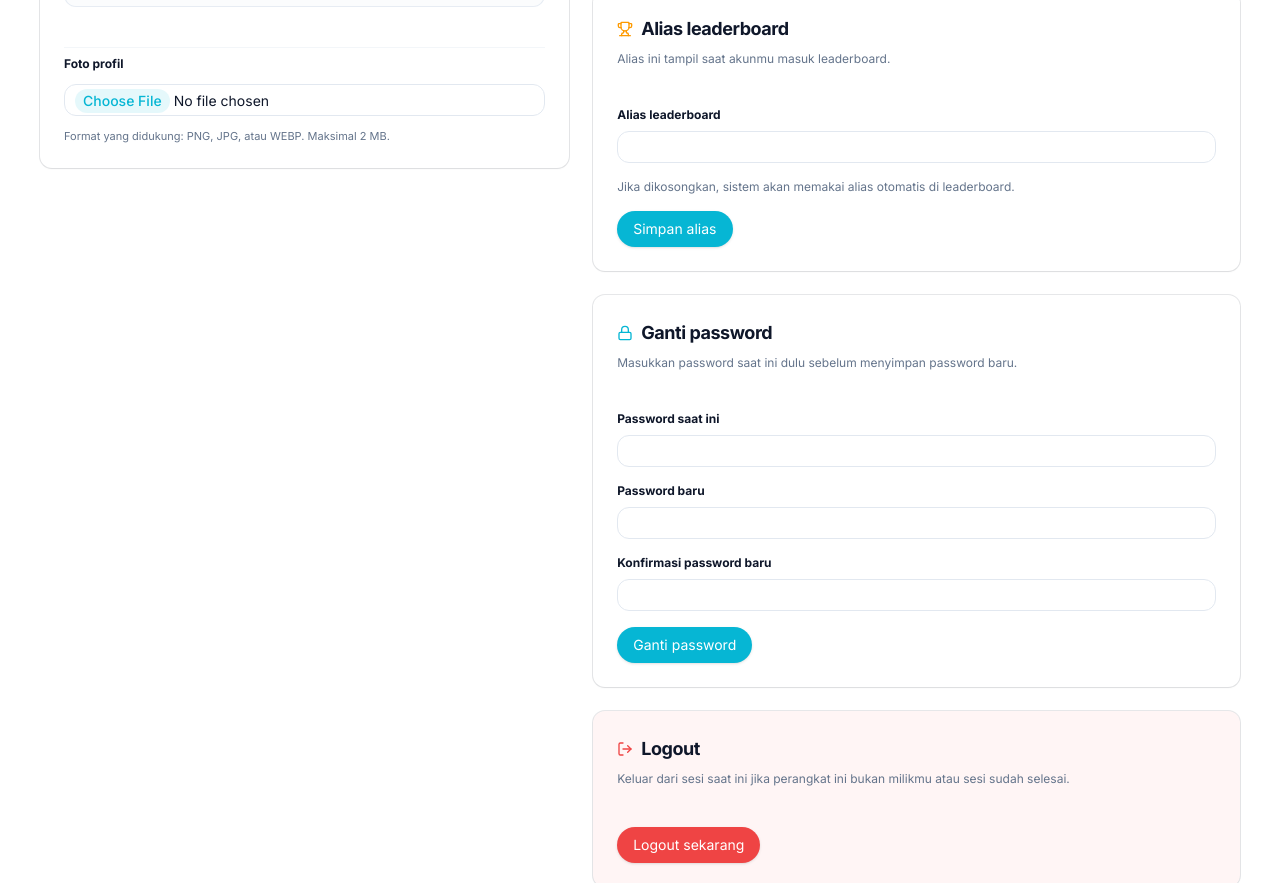
it: ProfilePage › blocks password submit when confirmation does not match
(page scrolled)
Type "password-lama" into the password field labelled "Password saat ini" at [917, 451], box [617,435,1216,467]
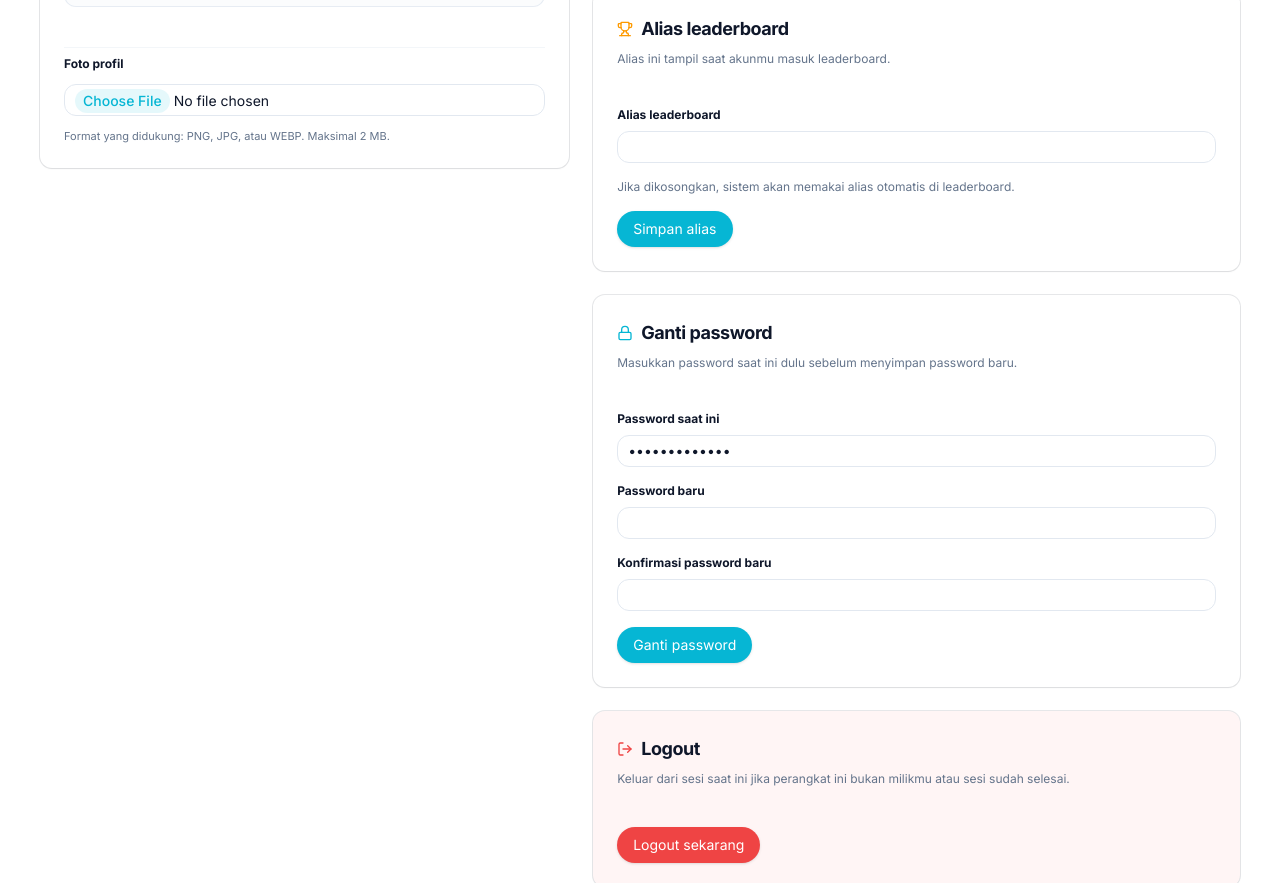
Type "password-baru" into the password field labelled "Password baru" at [917, 523], box [617,507,1216,539]
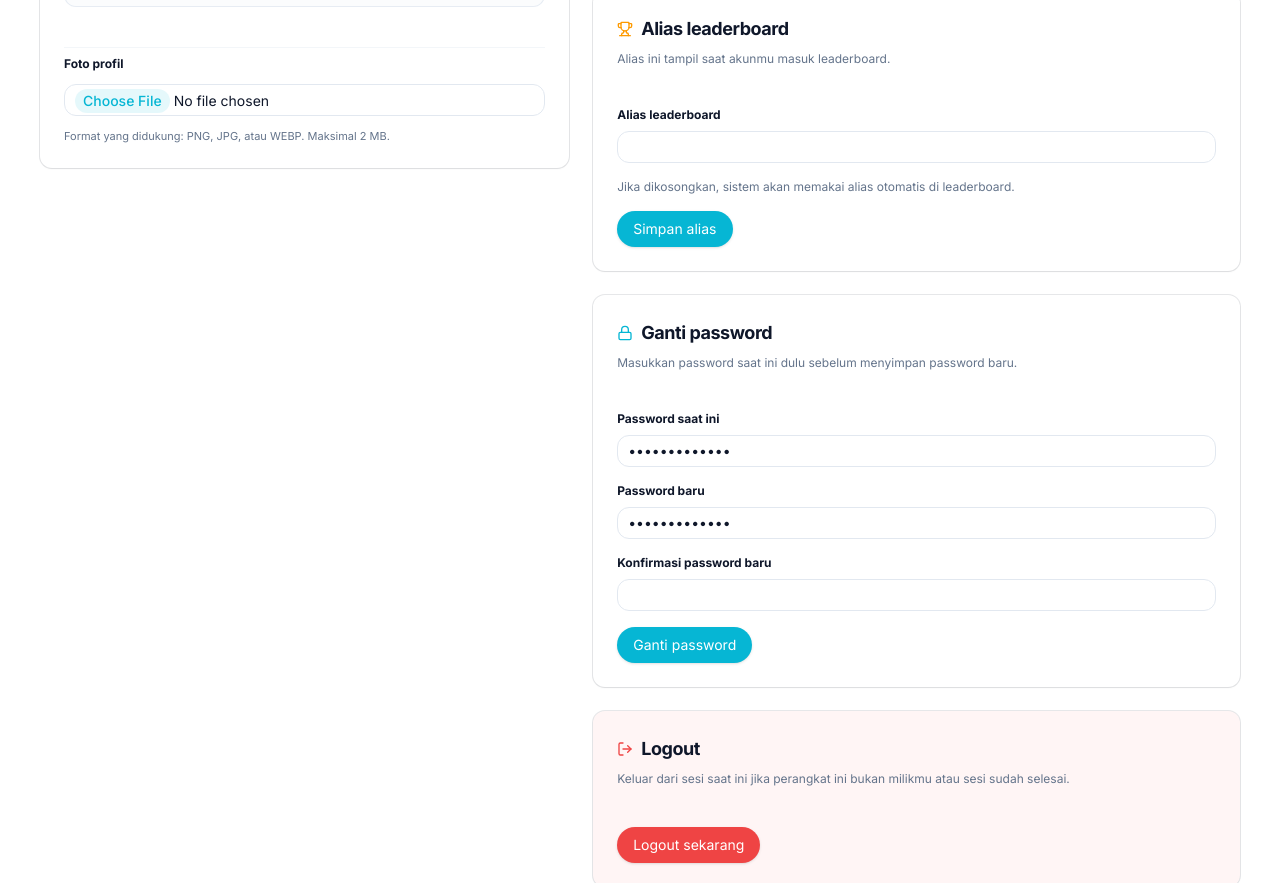
Type "beda-password" into the password field labelled "Konfirmasi password baru" at [917, 595], box [617,579,1216,611]
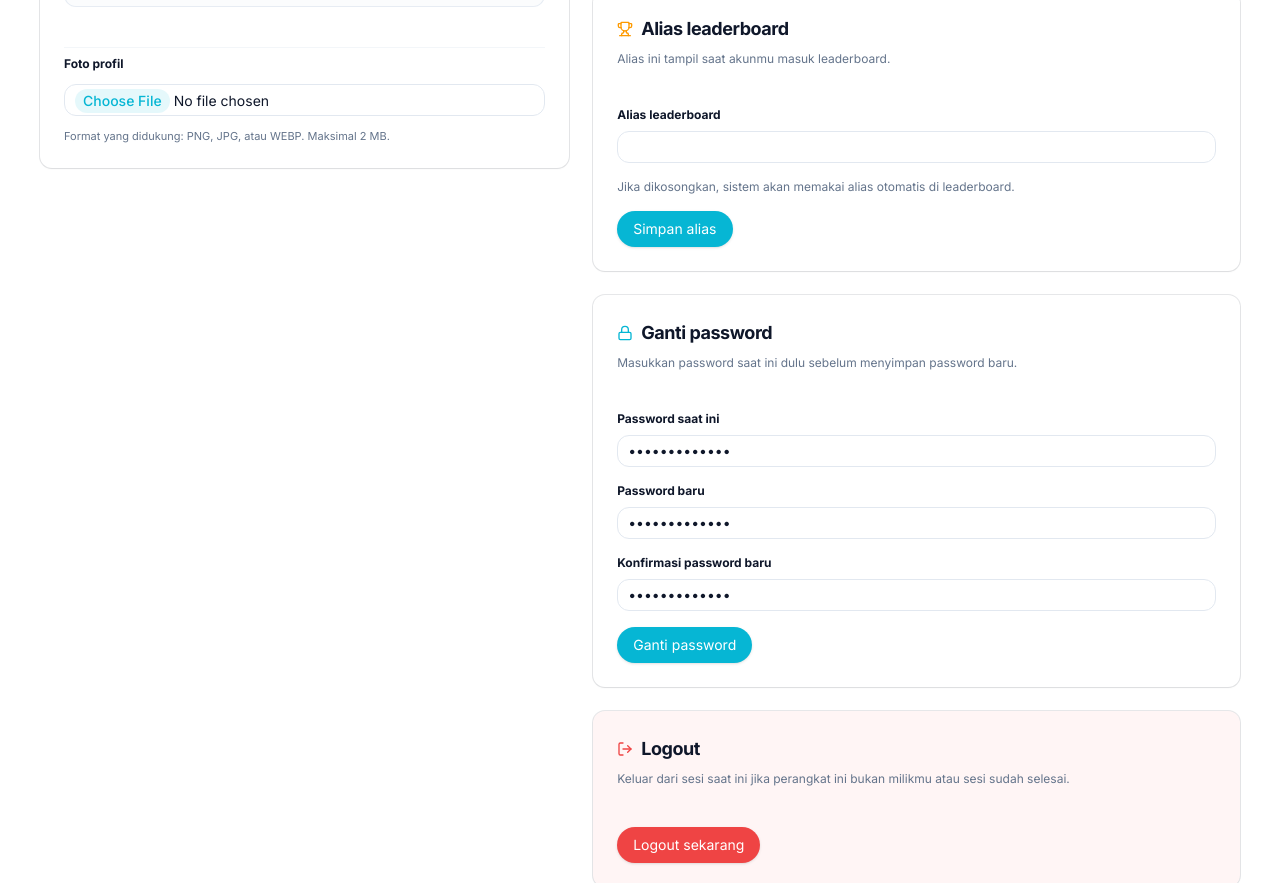
Click the button "Ganti password" at [685, 645], box [617,627,752,663]
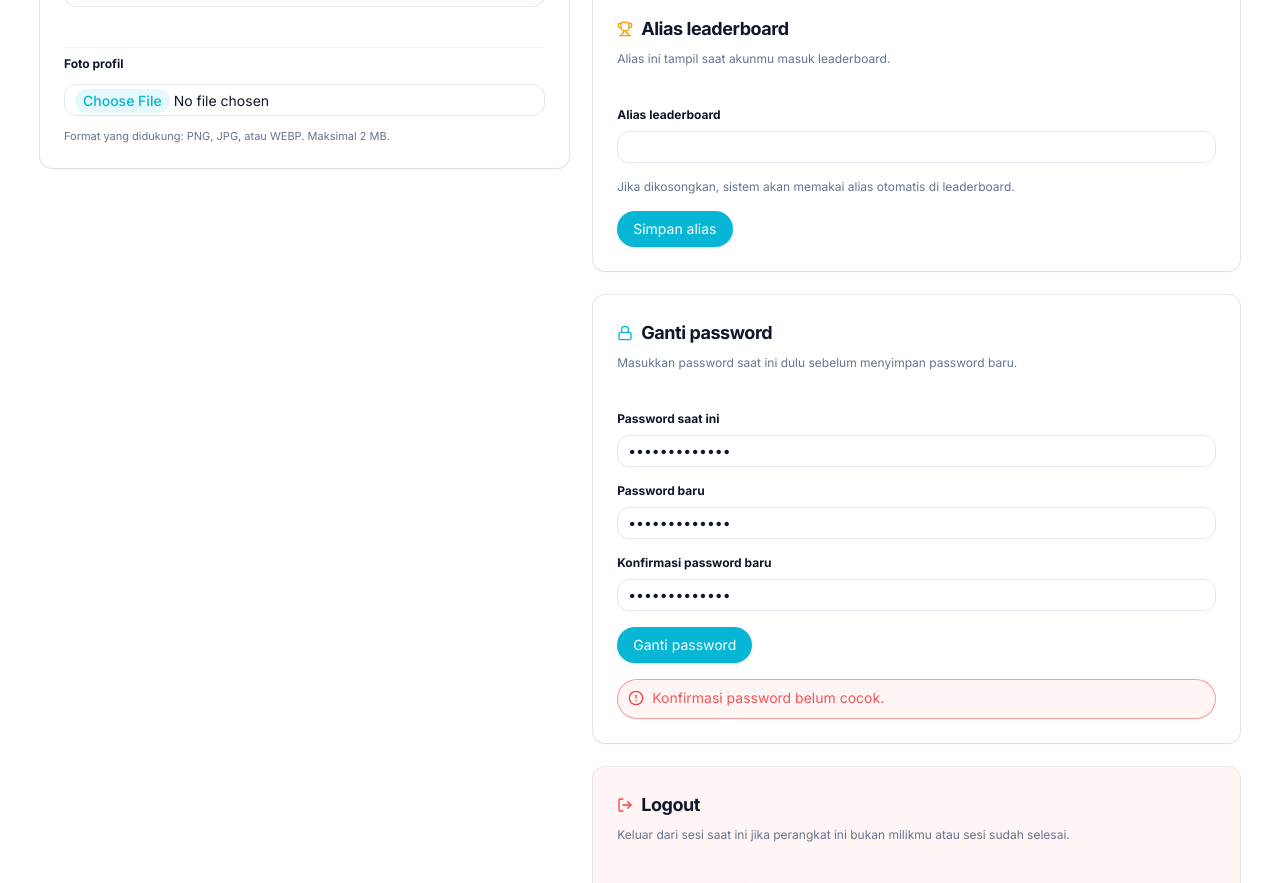
Check: the message shows "Konfirmasi password belum cocok", box [652,689,884,706]
